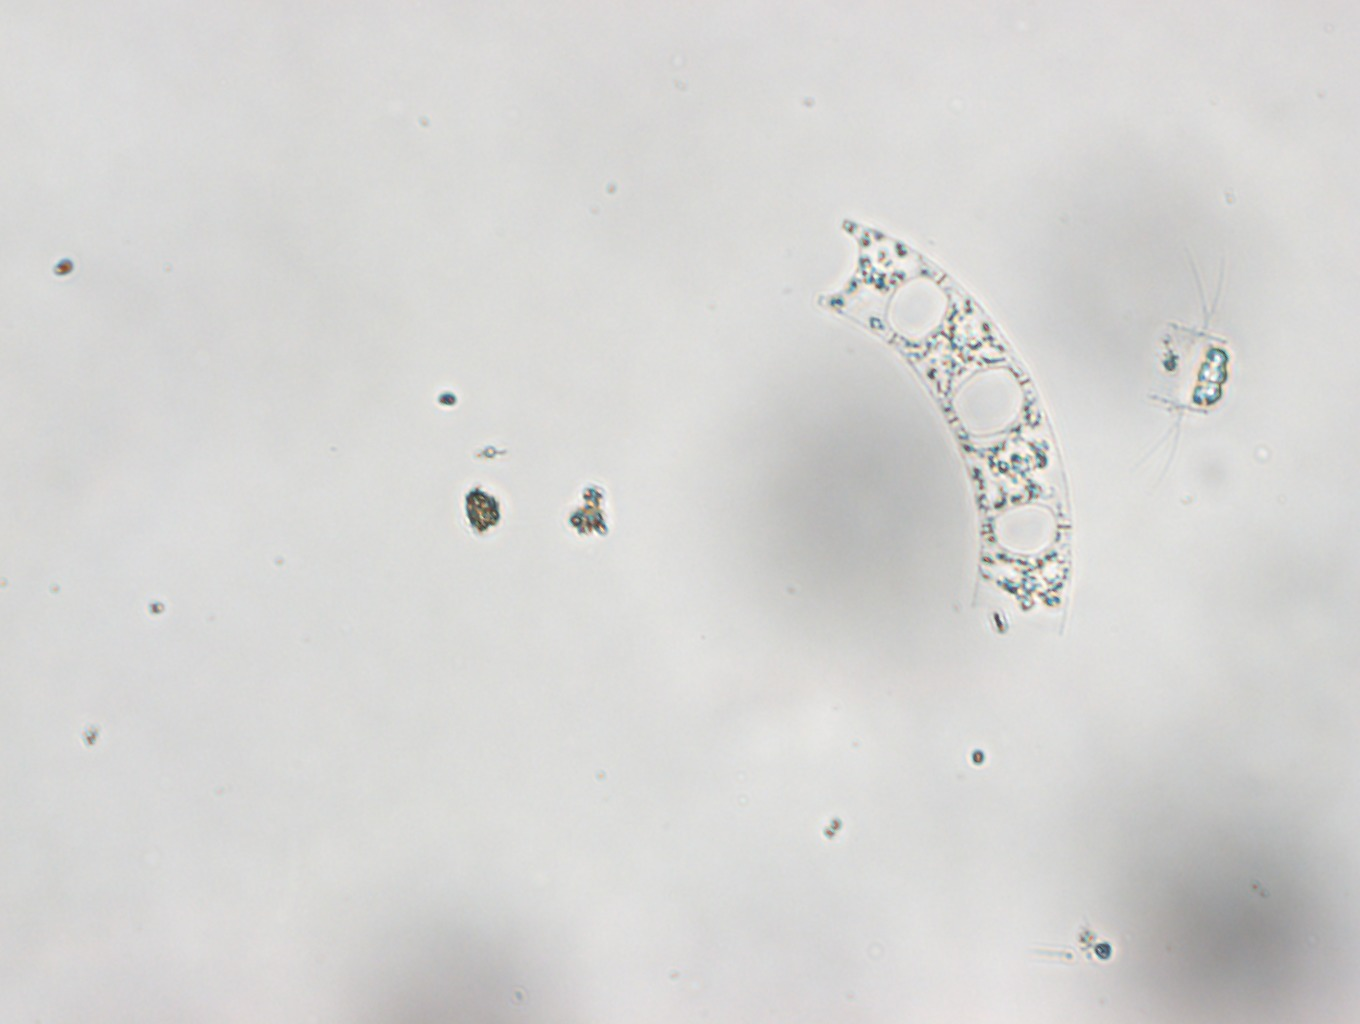chaetoceros: (1127, 238, 1232, 499)
eucampia: (811, 216, 1072, 641)
